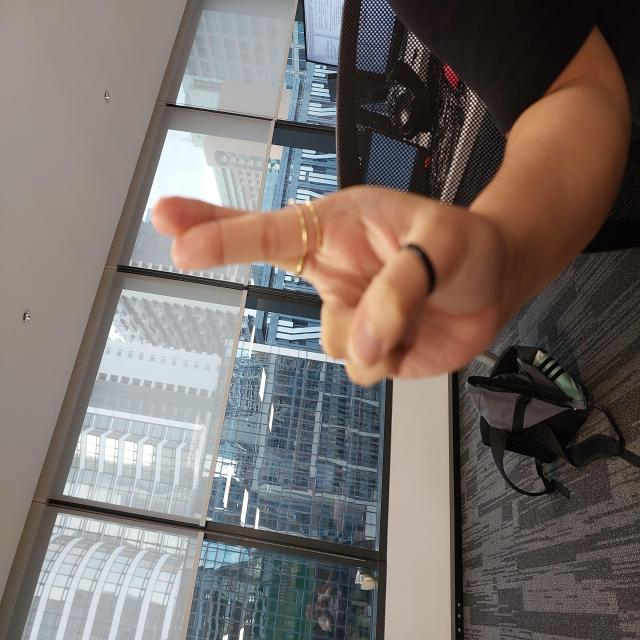R: (252, 147, 458, 503)
